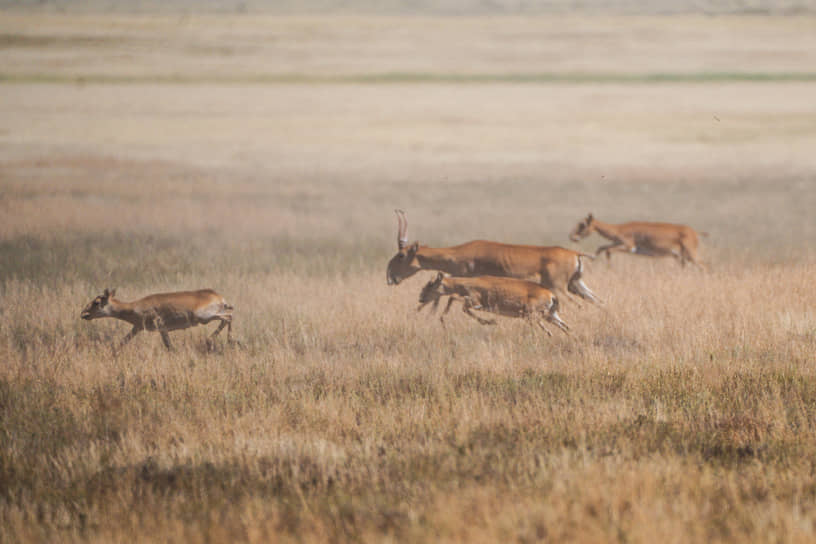saiga: (387, 209, 608, 316), (416, 272, 574, 342), (79, 288, 239, 356), (568, 211, 716, 278)
